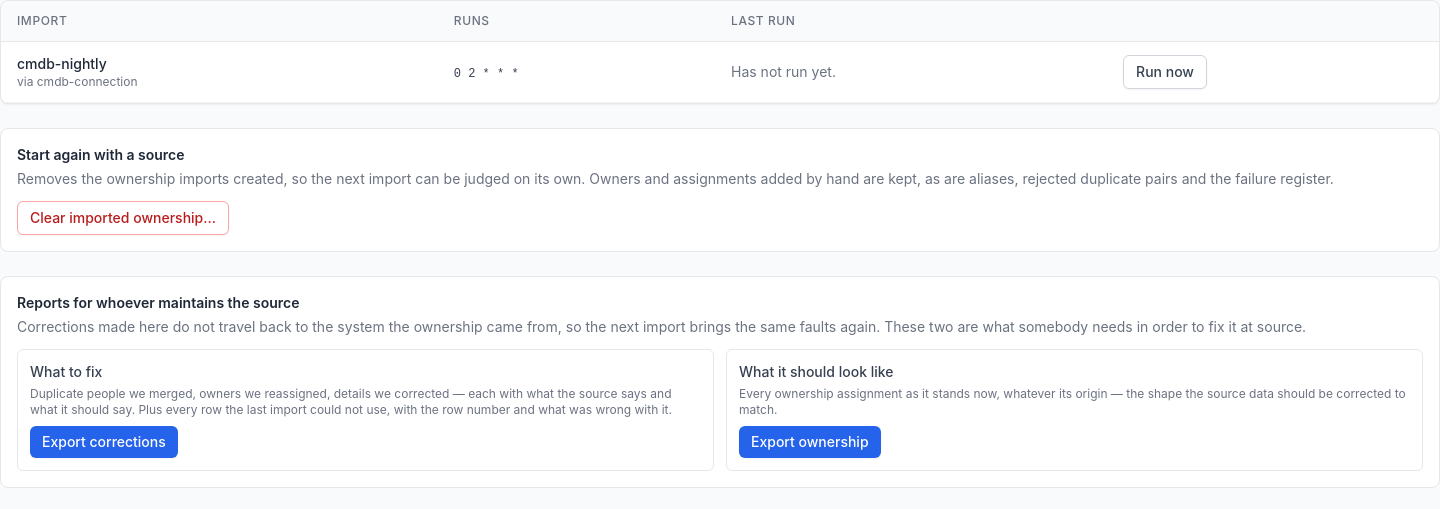
Test: saved database imports › reports a failed run rather than falling silent
Click the button "Run now": [1165, 72] box [1123, 55, 1207, 89]
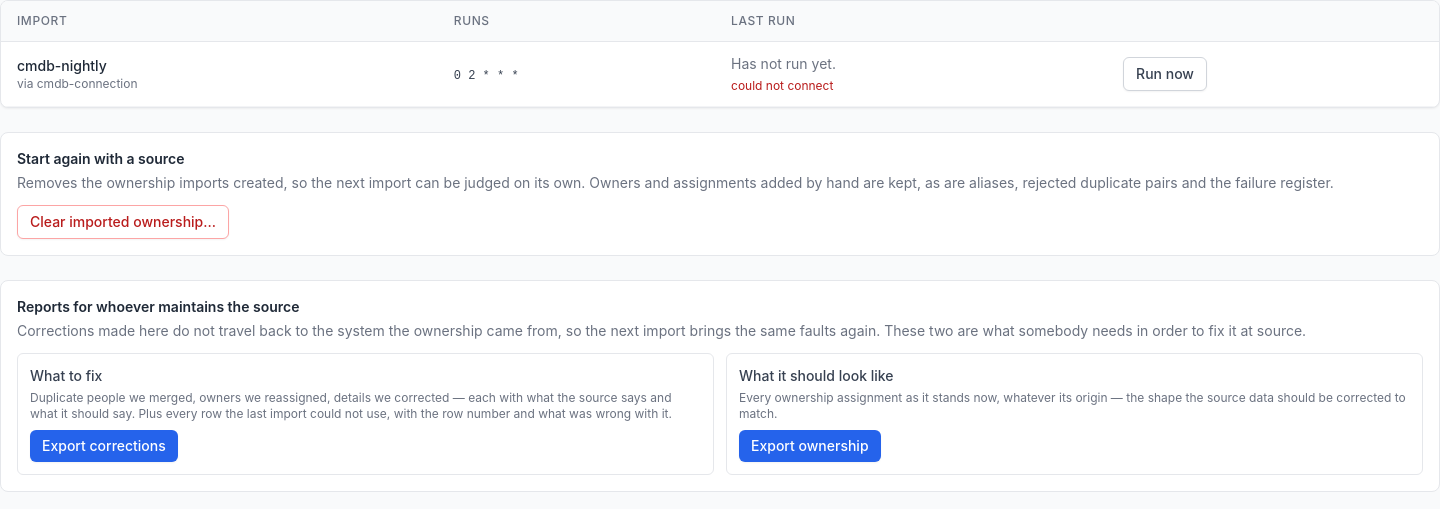
Expected: the text "could not connect" is shown, [731, 78, 833, 93]
